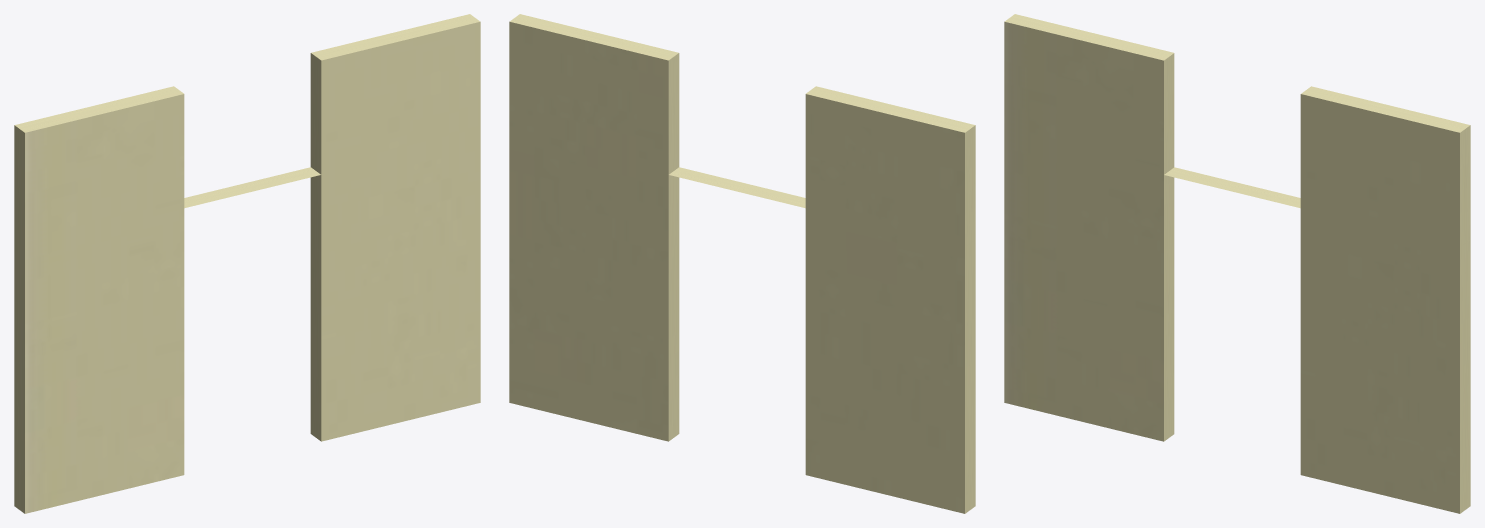
File: parede_7.obj
3 views of the same model, side by side, from view 1: azimuth 30°, elevation 25°; view 2: azimuth 150°, elevation 25°; view 3: azimuth 330°, elevation 25° (orthographic).
Parts seen in each view (by area): view 1: parede_7_Cube.002; view 2: parede_7_Cube.002; view 3: parede_7_Cube.002.
Part boxes in pixels (<box>): parede_7_Cube.002: <box>14,14,480,513</box>; parede_7_Cube.002: <box>509,14,975,513</box>; parede_7_Cube.002: <box>1004,14,1470,513</box>.
Bounding box in the file's own units: 5 × 4 × 0.2.
1 material, 1 textured.
